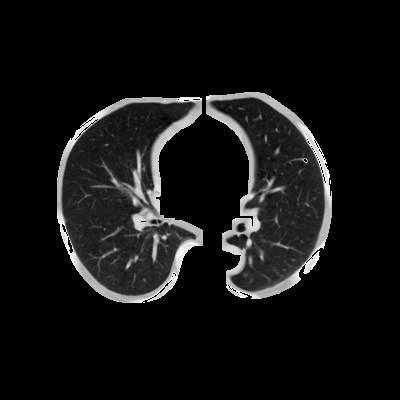PN: (303, 158, 307, 162)
